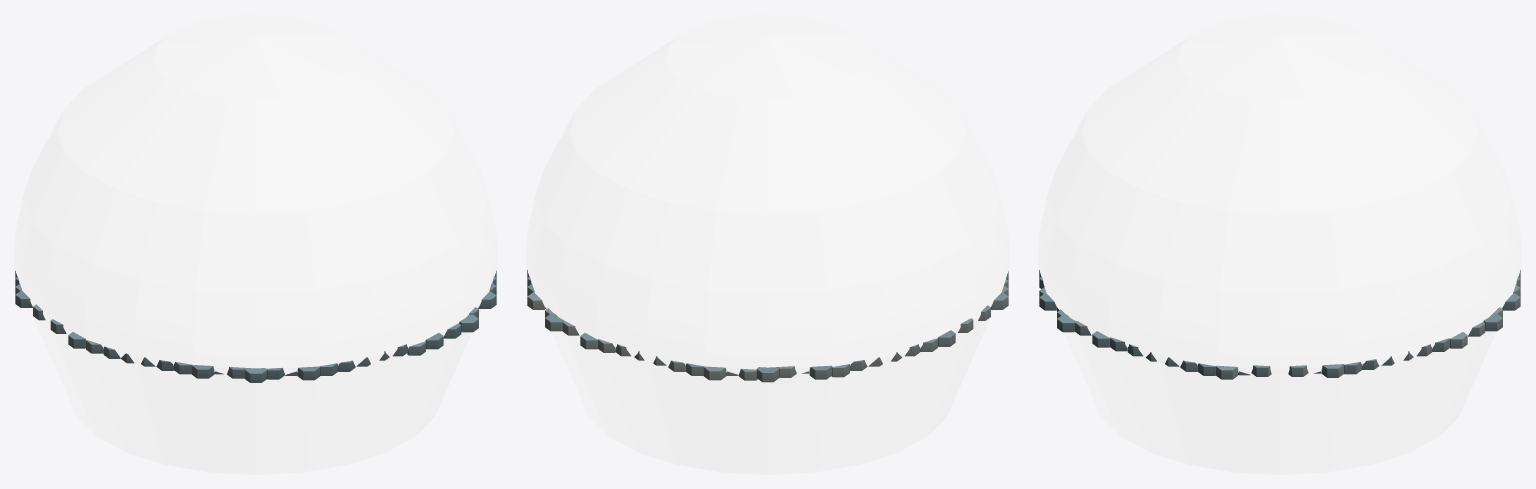
The model's file is arena.glb.
3 renders of one model, left to right at view 1: azimuth 30°, elevation 25°; view 2: azimuth 150°, elevation 25°; view 3: azimuth 270°, elevation 25°, orthographic.
Parts seen in each view (by area): view 1: scene_sky_dome; view 2: scene_sky_dome; view 3: scene_sky_dome.
Boxes of the visible parts, bbox=[...] form: scene_sky_dome: bbox=[14, 14, 497, 474]; scene_sky_dome: bbox=[526, 14, 1009, 474]; scene_sky_dome: bbox=[1038, 14, 1521, 474].
Bounding box in the file's own units: 192 × 156 × 190.
